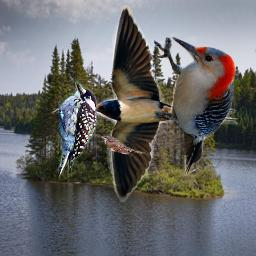Cuckoo: (98, 133, 148, 157)
Swallow: (92, 5, 238, 203)
Woodpecker: (154, 37, 235, 176), (41, 77, 104, 186)
